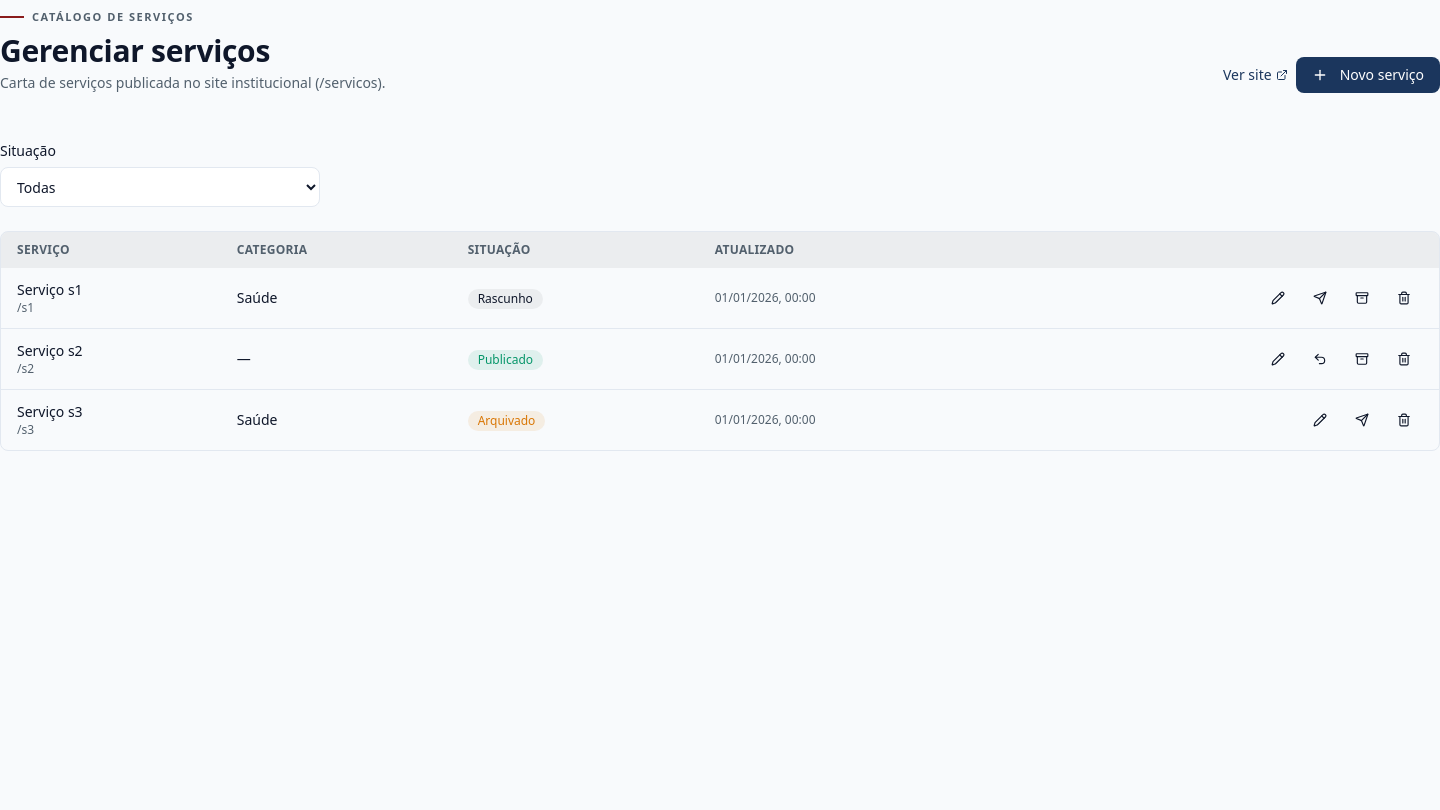
Scenario: Gestão > Serviços › publica, despublica, arquiva e exclui conforme a situação
Expected: the text "/s1" is shown, [17,299,34,316]
Expected: the text "—" is shown, [221,329,452,390]
Click the button named "Publicar Serviço s1" at (1320, 298), box [1301,285,1339,311]
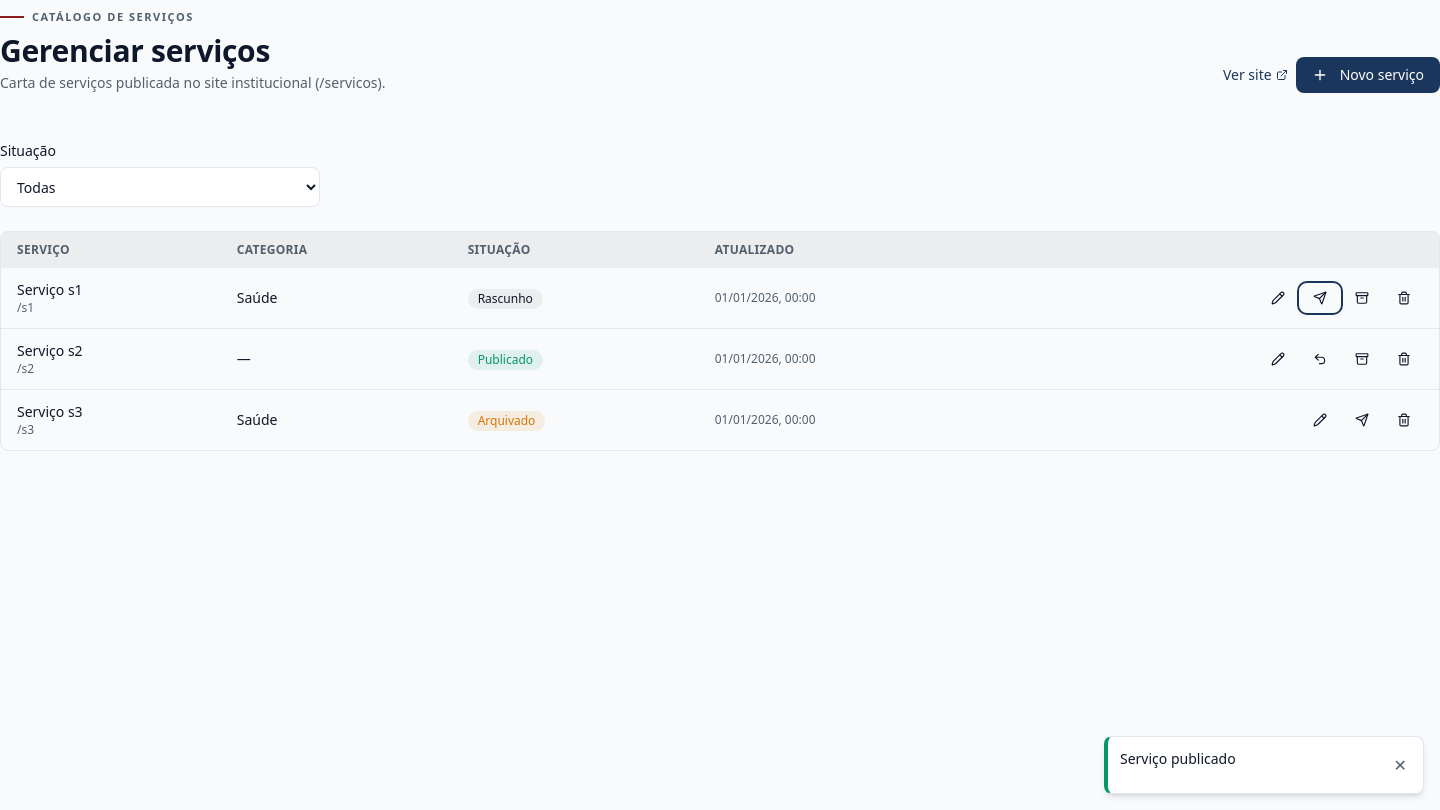
Click the button named "Despublicar Serviço s2" at (1320, 359), box [1301,346,1339,372]
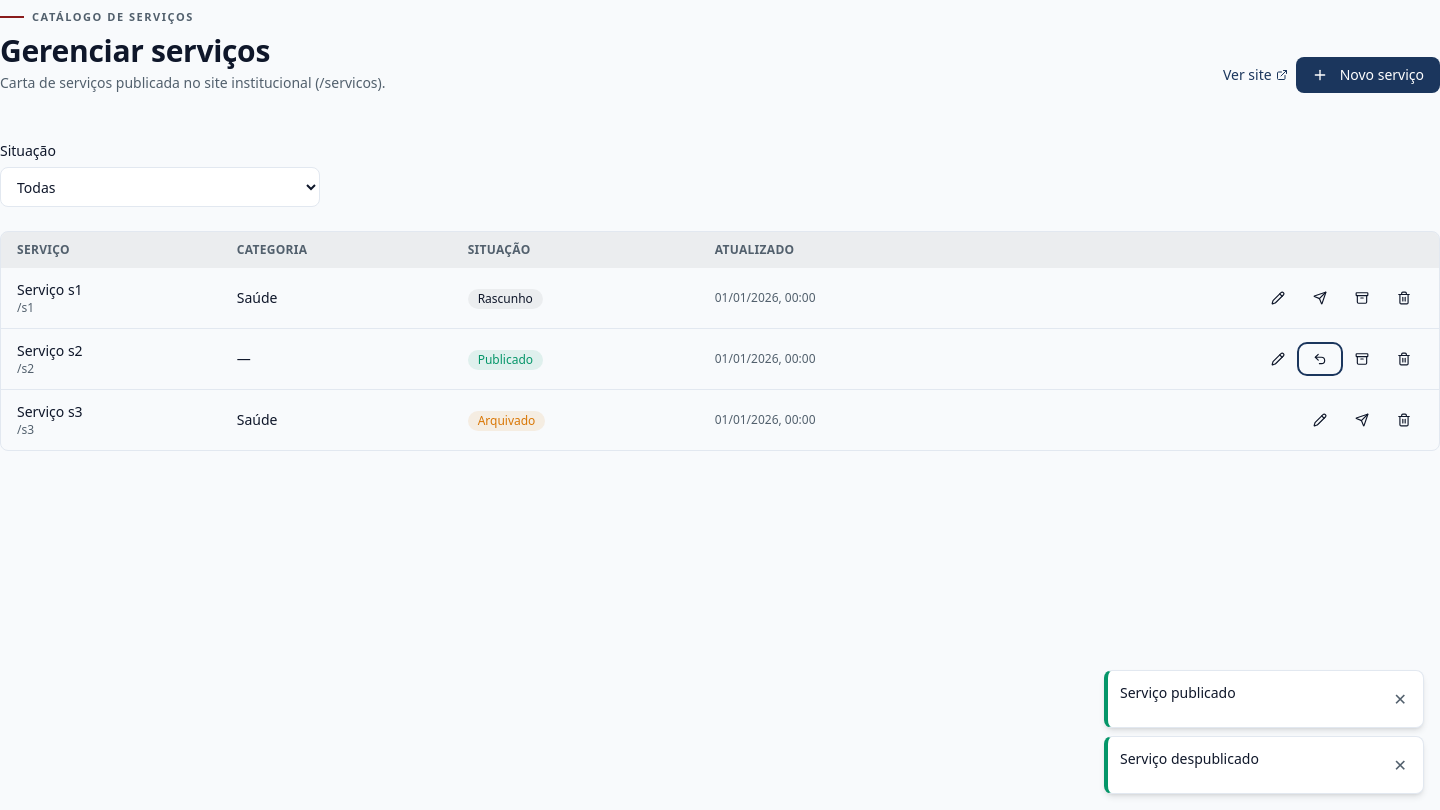
Click the button named "Arquivar Serviço s1" at (1362, 298), box [1343,285,1381,311]
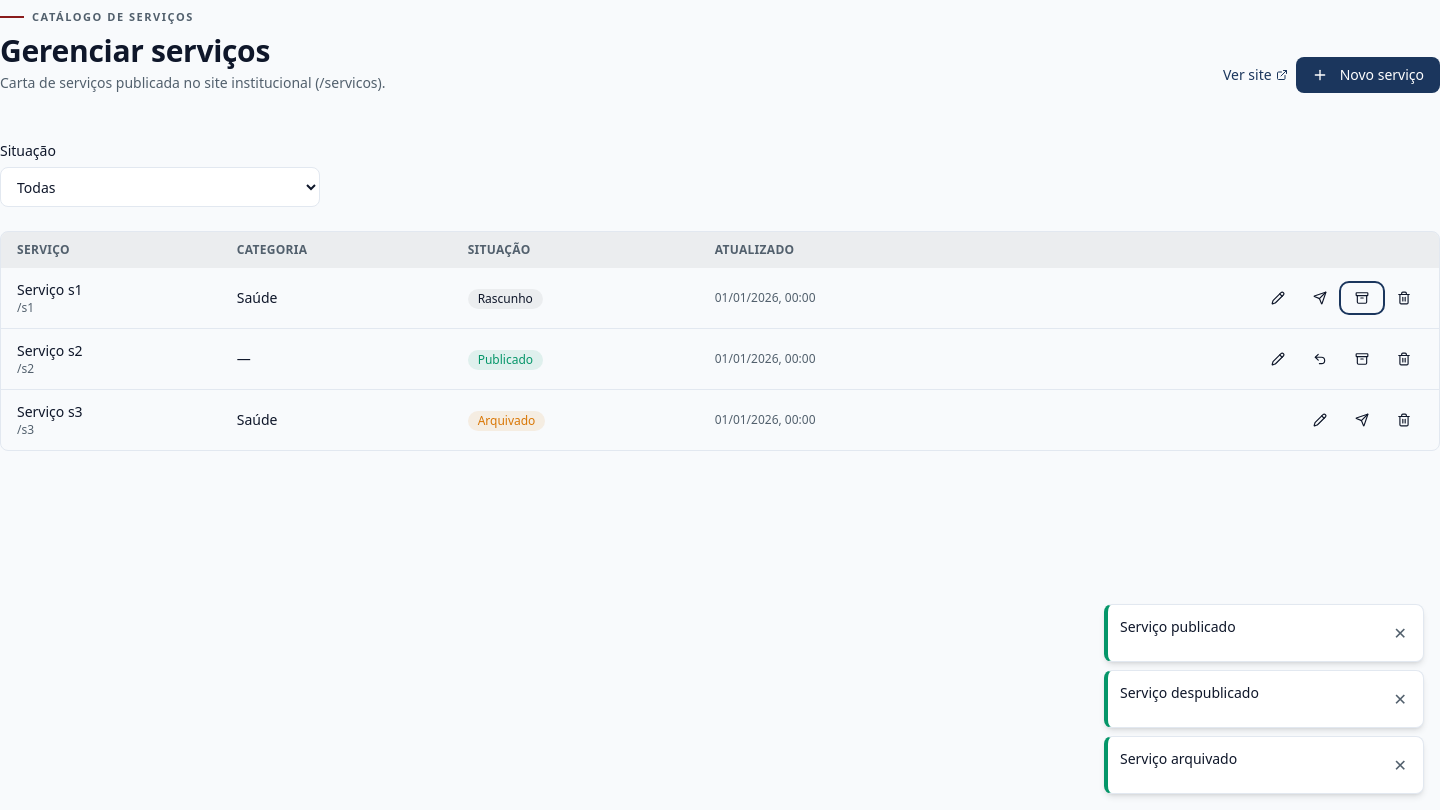
Click the button named "Excluir Serviço s3" at (1404, 420), box [1385,407,1423,433]
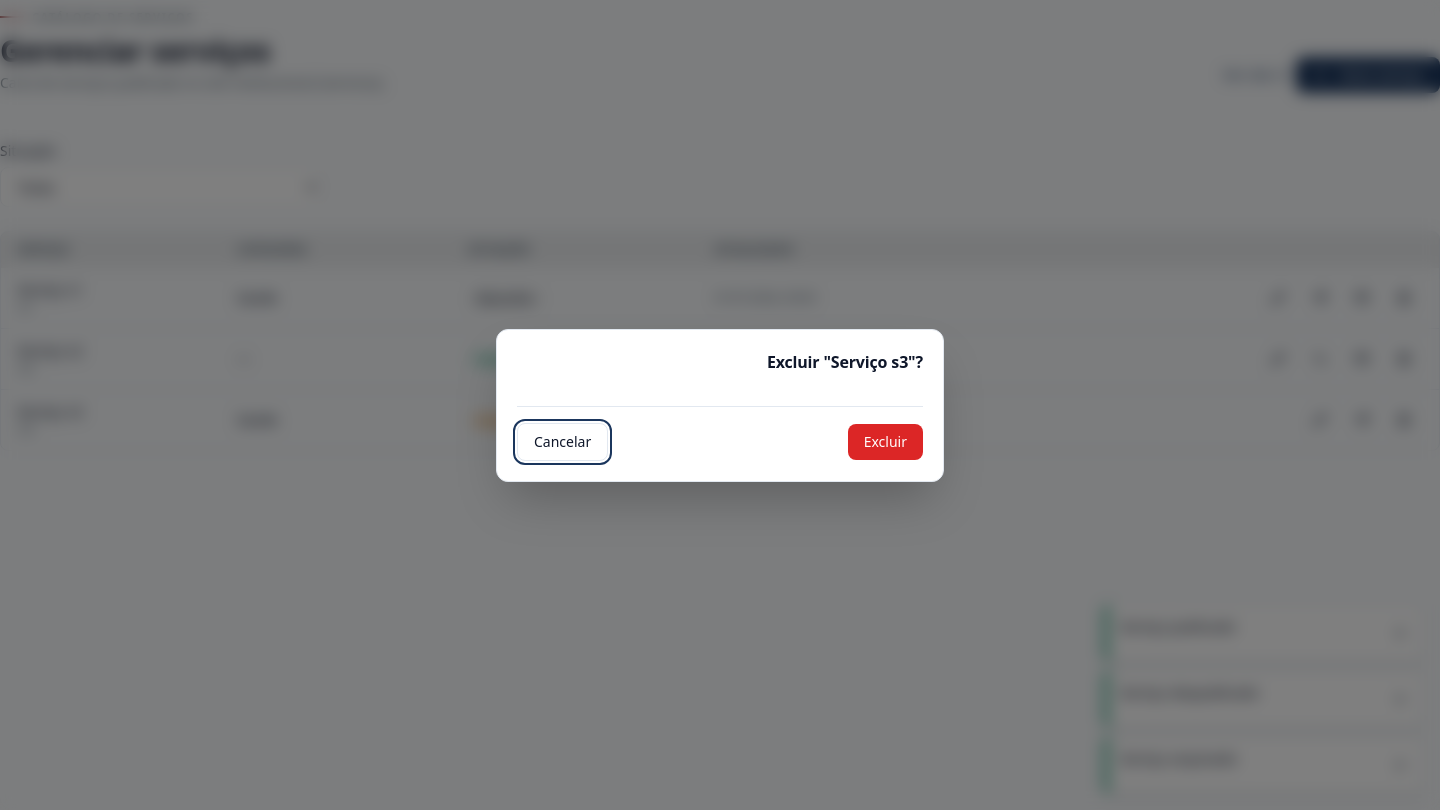
Click the button "Excluir" at (885, 442), box [848,424,923,460]
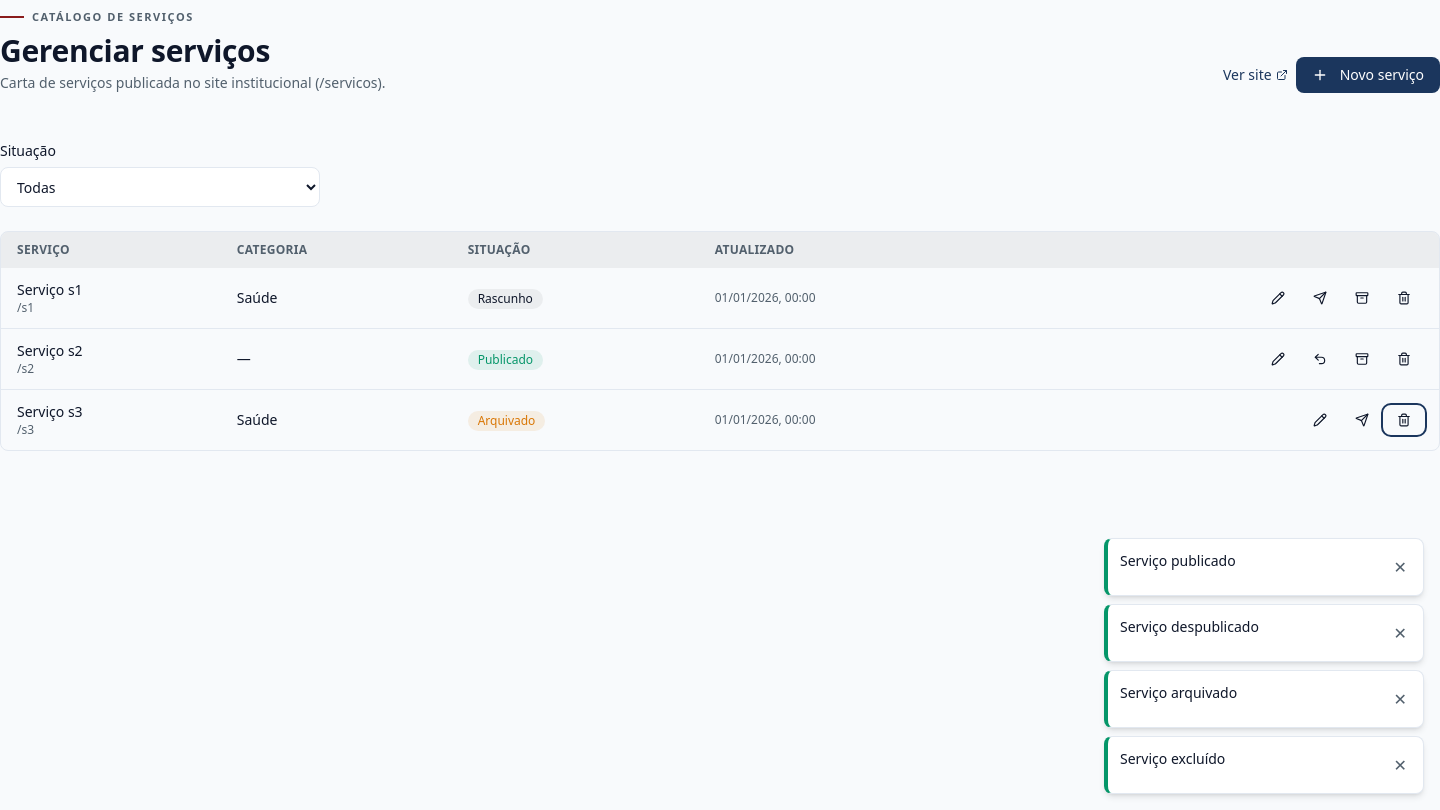
Select "Arquivado" in the dropdown labelled "Situação" at (160, 187), box [0,167,320,207]
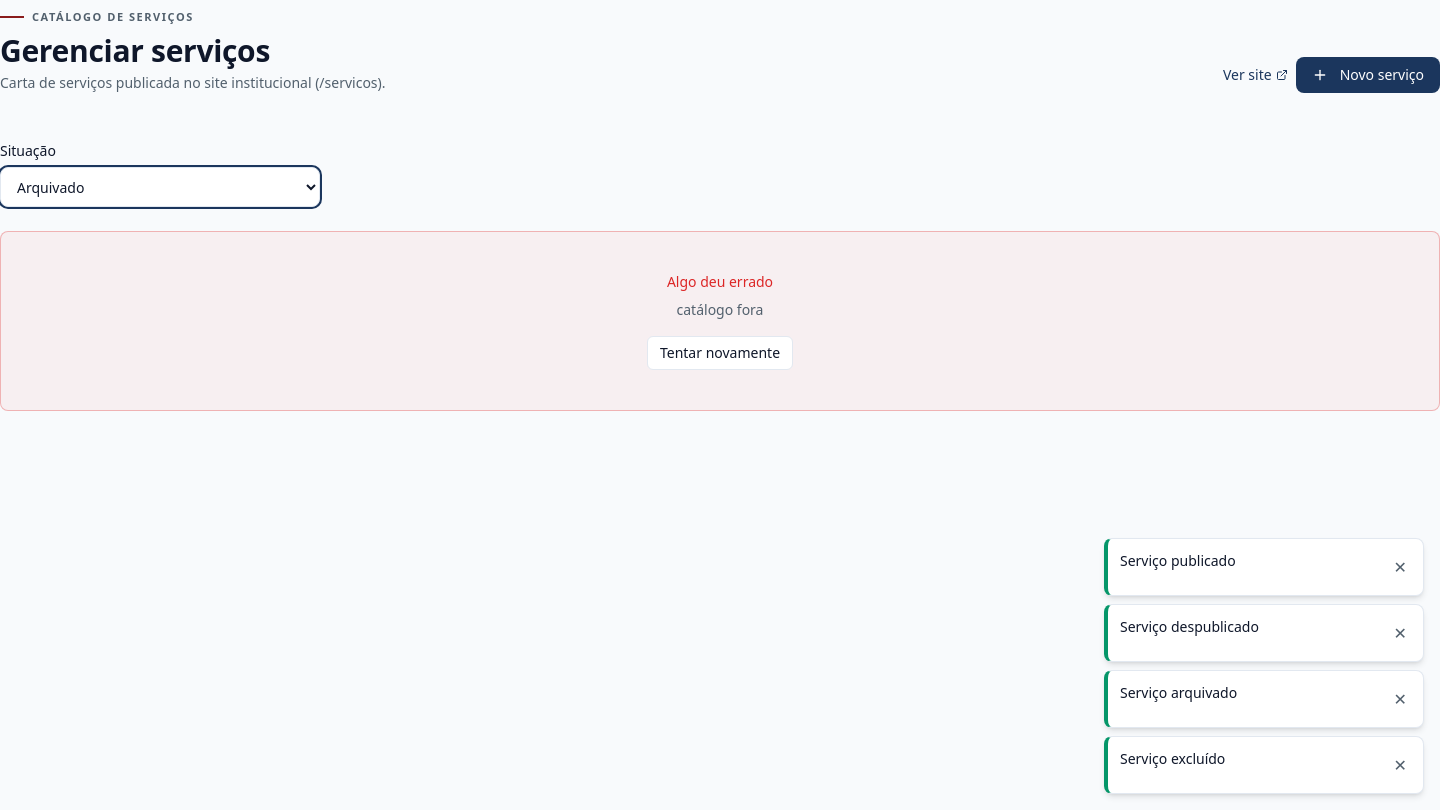
Now the text "catálogo fora" is shown, box [676,300,763,320]
